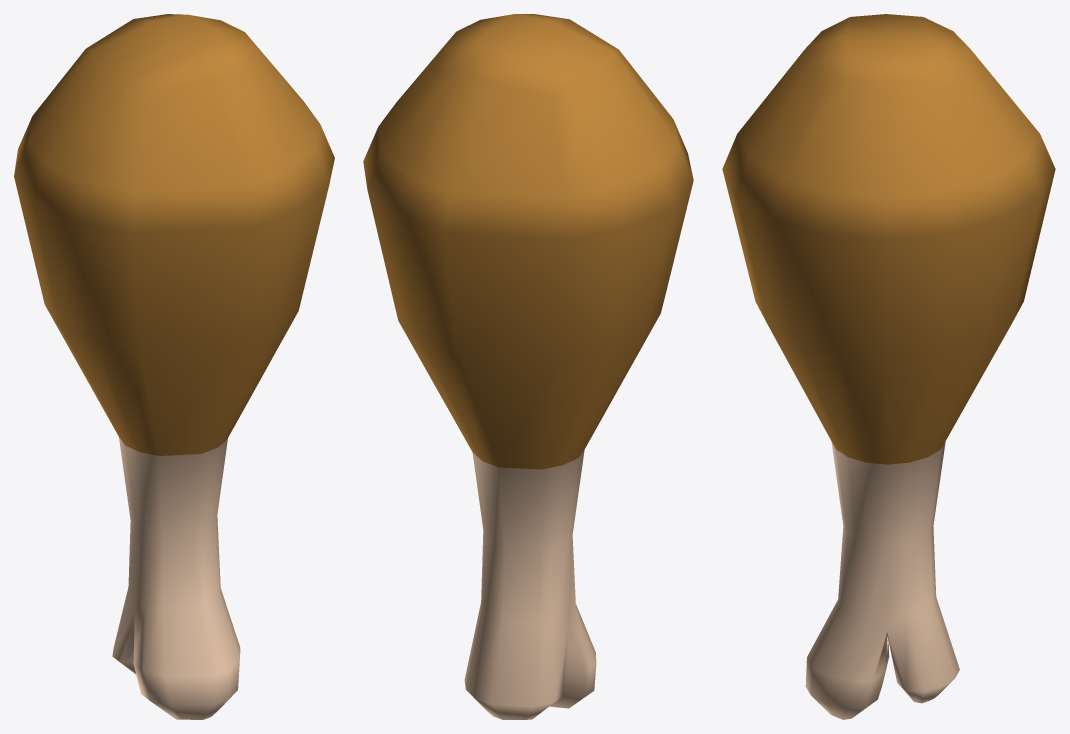
The model's file is ChickenDrum.fbx.
3 renders of one model, left to right at view 1: azimuth 30°, elevation 25°; view 2: azimuth 150°, elevation 25°; view 3: azimuth 270°, elevation 25°, orthographic. The views are drawn at different scales.
Parts seen in each view (by area): view 1: chickenDrum; view 2: chickenDrum; view 3: chickenDrum.
Part boxes in pixels (box(x1,y1,x2,y2)): chickenDrum: box(14, 14, 334, 719); chickenDrum: box(363, 14, 693, 719); chickenDrum: box(722, 14, 1055, 719).
Bounding box in the file's own units: 147 × 329 × 147.
